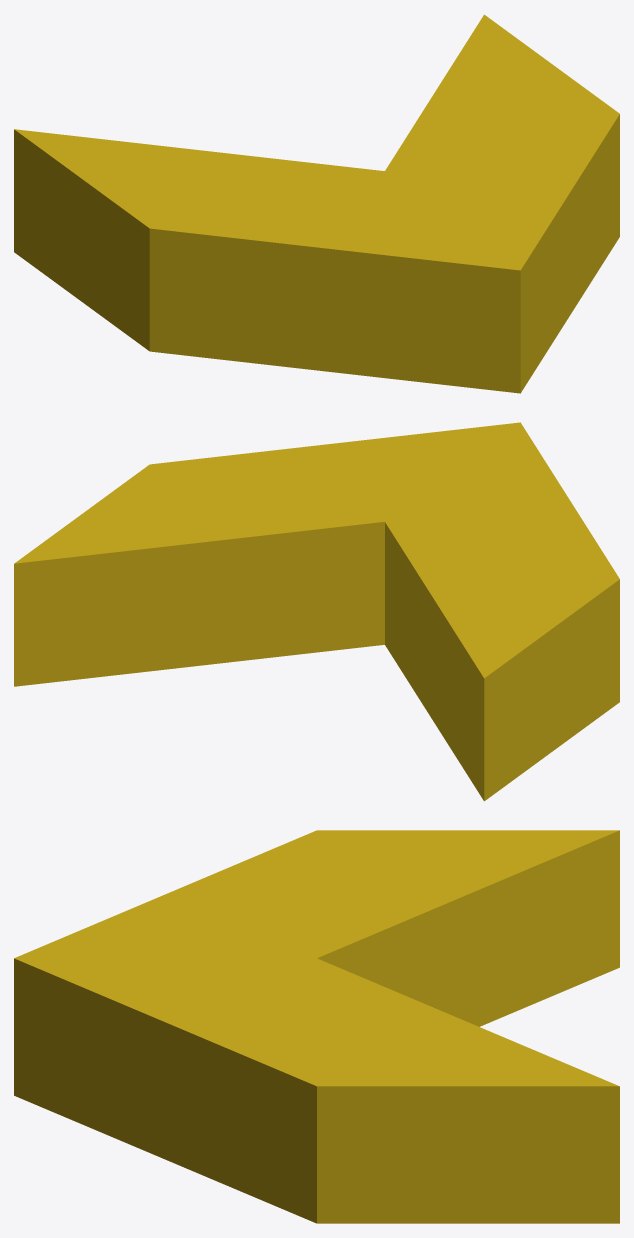
Rendered from arrow.fbx.
3 views of the same model, one above another, from view 1: azimuth 30°, elevation 25°; view 2: azimuth 150°, elevation 25°; view 3: azimuth 270°, elevation 25° (orthographic). The views are drawn at different scales.
Visible parts, largest first — view 1: Arrow; view 2: Arrow; view 3: Arrow.
Boxes of the visible parts, x1,y1,x2,y2 form: Arrow: [14, 14, 619, 393]; Arrow: [14, 422, 619, 801]; Arrow: [14, 830, 619, 1223].
Bounding box in the file's own units: 0.8 × 0.2 × 0.8.
